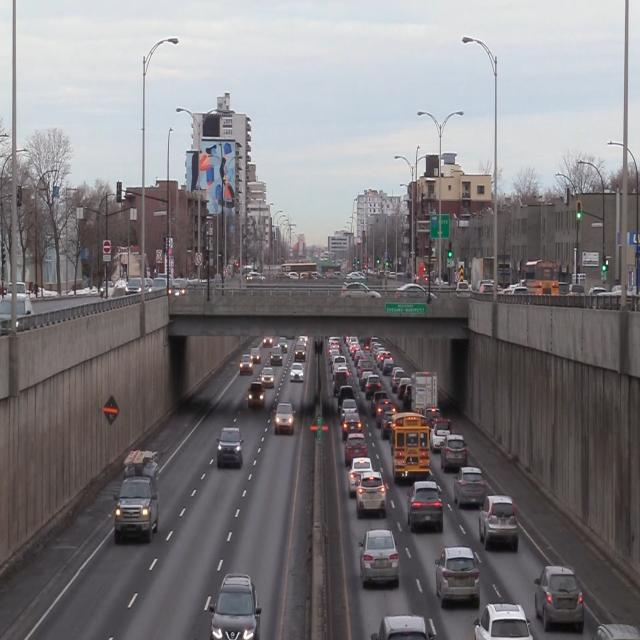Car: (113, 452, 163, 548), (534, 565, 586, 634), (208, 576, 262, 640), (435, 547, 481, 608), (392, 413, 430, 482), (478, 494, 522, 552), (359, 531, 400, 586), (406, 481, 444, 532), (453, 465, 487, 508), (216, 427, 244, 473), (359, 473, 387, 514), (442, 434, 468, 473), (274, 401, 294, 435), (247, 381, 265, 412)
